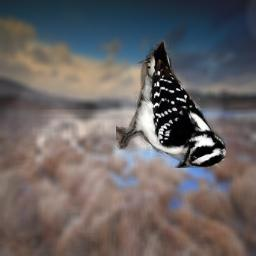Woodpecker: (116, 38, 226, 168)
